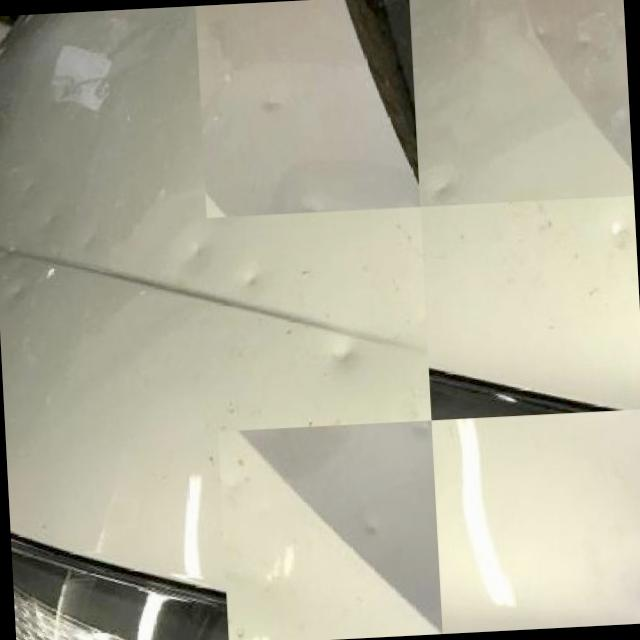dent: (181, 240, 208, 270), (300, 190, 332, 215), (358, 514, 382, 544), (236, 270, 268, 292), (608, 220, 630, 252), (326, 338, 355, 362), (261, 92, 282, 114), (8, 278, 26, 302), (39, 210, 58, 227), (21, 180, 36, 197)
